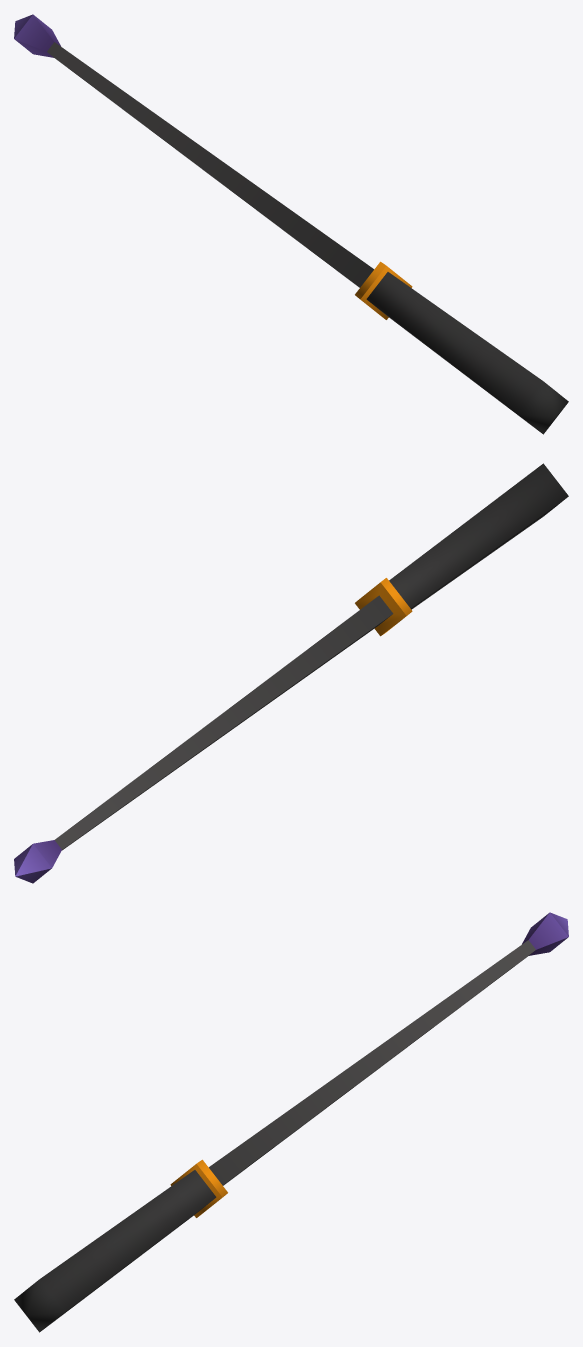
Rendered from Wand6.fbx.
The picture shows the model from 3 angles, top to bottom: view 1: azimuth 30°, elevation 25°; view 2: azimuth 150°, elevation 25°; view 3: azimuth 330°, elevation 25°; orthographic projection.
Parts seen in each view (by area): view 1: Wand6; view 2: Wand6; view 3: Wand6.
Part boxes in pixels (left/top/right/bottom): Wand6: left=14, top=14, right=568, bottom=434; Wand6: left=14, top=463, right=568, bottom=883; Wand6: left=14, top=912, right=568, bottom=1332.
Bounding box in the file's own units: 1.85 × 1.85 × 33.12.
